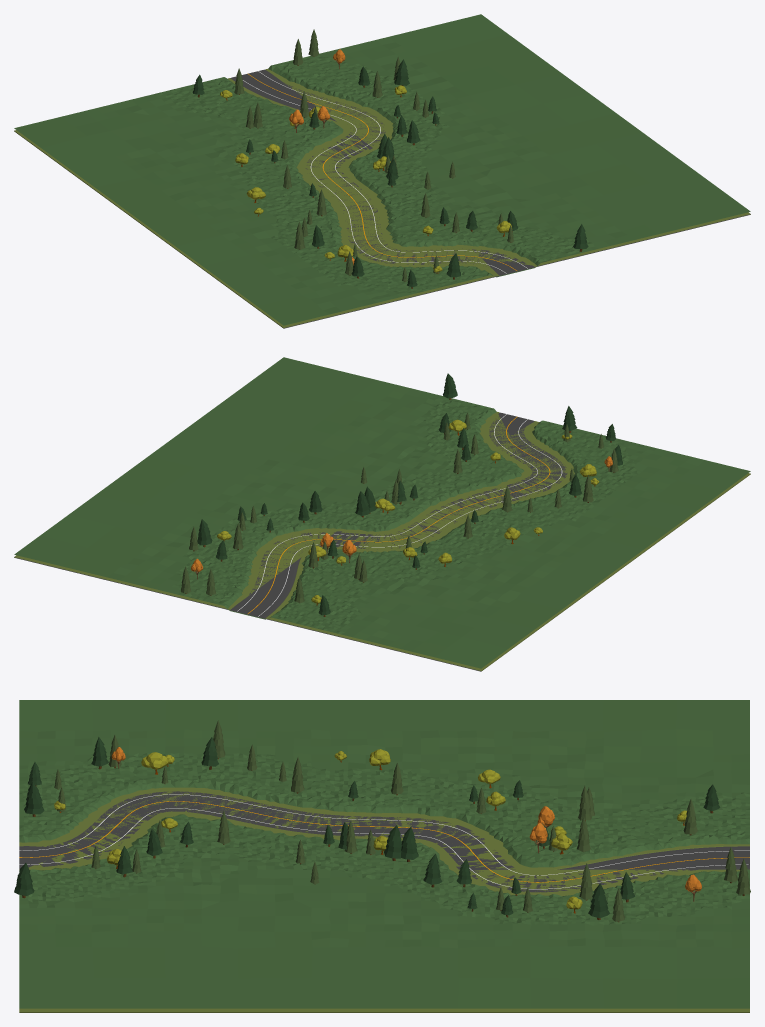
File: ForestRoadStraight4.fbx
The picture shows the model from 3 angles, top to bottom: view 1: azimuth 30°, elevation 25°; view 2: azimuth 150°, elevation 25°; view 3: azimuth 270°, elevation 25°; orthographic projection. The views are drawn at different scales.
Parts seen in each view (by area): view 1: FRS4Plane, FRS4Road; view 2: FRS4Plane, FRS4Road; view 3: FRS4Plane, FRS4Road.
Part boxes in pixels (x1,y1,x2,y2): FRS4Plane: (14, 14, 750, 325); FRS4Road: (14, 69, 750, 328); FRS4Plane: (14, 357, 750, 668); FRS4Road: (14, 412, 750, 671); FRS4Plane: (19, 700, 749, 1008); FRS4Road: (19, 787, 749, 1012).
Size of what is drawn, in the model's own units: 40000 by 2662 by 40346.
